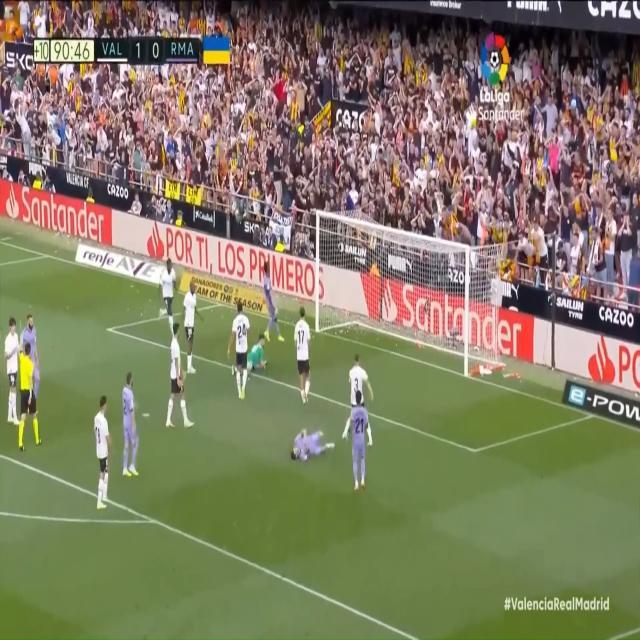goalkeeper: (239, 331, 268, 380)
player: (165, 322, 195, 430), (347, 390, 375, 496), (93, 393, 114, 516), (120, 369, 140, 479), (343, 349, 373, 419), (293, 306, 314, 406), (285, 425, 336, 466), (181, 280, 203, 375), (4, 314, 22, 428), (230, 298, 249, 401), (155, 258, 181, 331), (260, 264, 283, 345), (20, 311, 42, 390)
referee: (18, 343, 43, 452)
